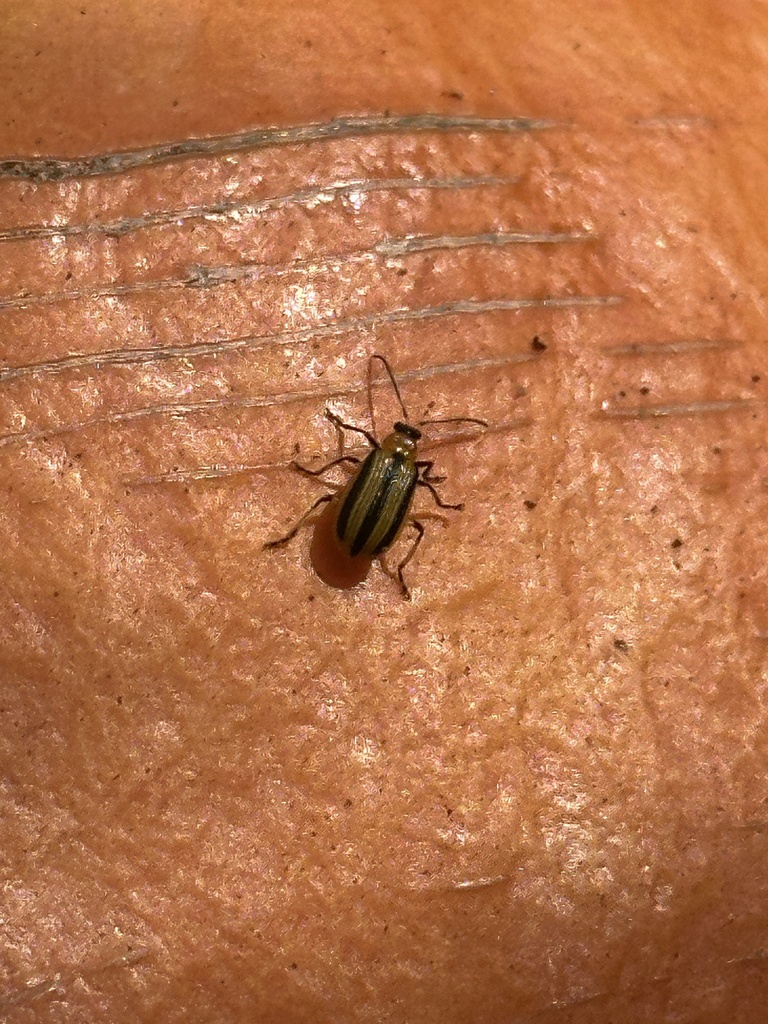potato_beetle: (174, 302, 550, 671)
